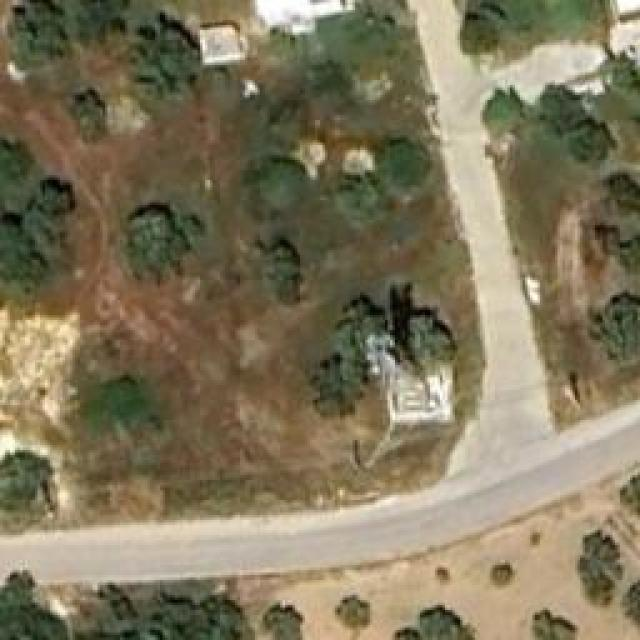Tree: (533, 85, 618, 163), (82, 373, 170, 448), (0, 570, 88, 640), (130, 15, 205, 93), (117, 208, 185, 291), (8, 0, 68, 68), (587, 292, 640, 362), (372, 135, 431, 195), (0, 450, 55, 513), (578, 530, 623, 605), (393, 605, 476, 640), (255, 158, 306, 214), (0, 215, 36, 288), (483, 82, 528, 140), (257, 242, 295, 300), (260, 605, 318, 640), (335, 590, 375, 640), (68, 88, 108, 138), (458, 10, 501, 55), (532, 607, 577, 640), (607, 177, 640, 217), (617, 234, 640, 277), (620, 475, 640, 513), (490, 563, 515, 588), (435, 567, 450, 585)
